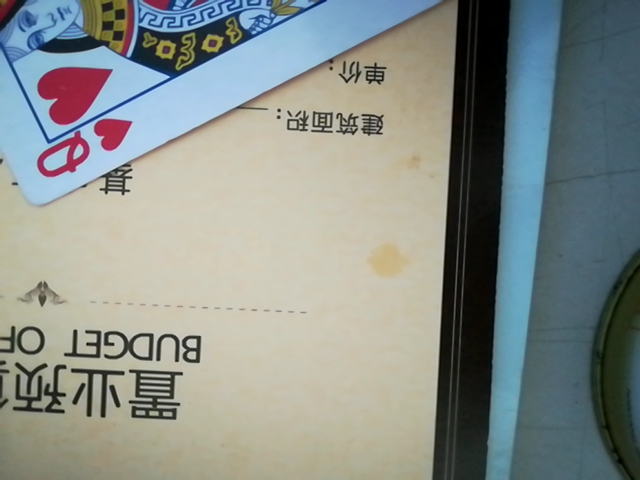hx q: (6, 0, 458, 202)
